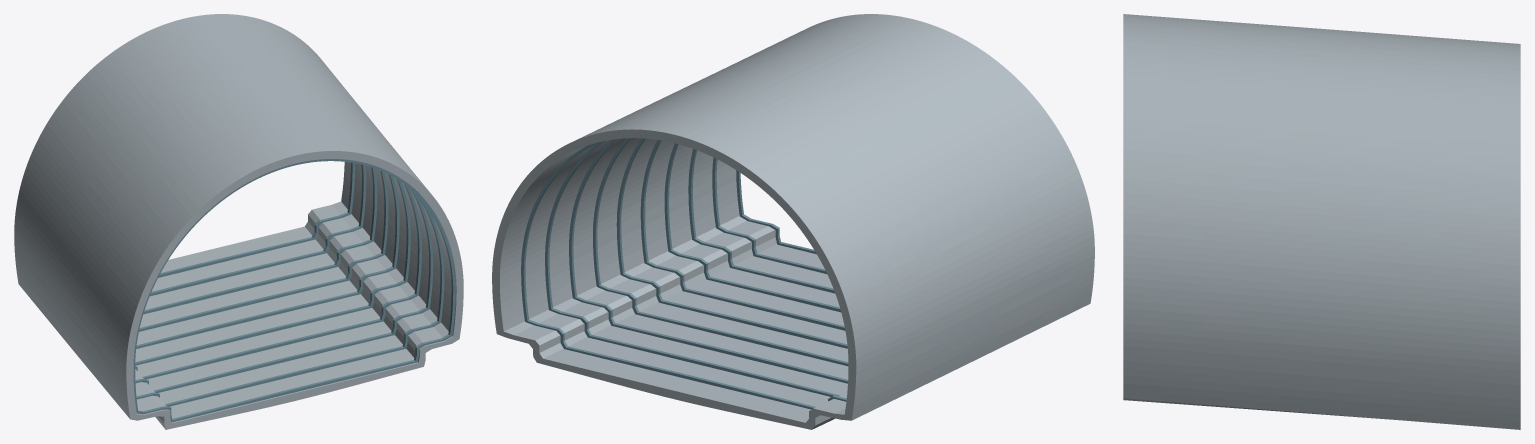
The model's file is 测试工段支护.glb.
3 renders of one model, left to right at view 1: azimuth 30°, elevation 25°; view 2: azimuth 150°, elevation 25°; view 3: azimuth 270°, elevation 25°, orthographic. The views are drawn at different scales.
Visible parts, largest first — view 1: Continuous support shell, Illustrative rib 01, Illustrative rib 02, Illustrative rib 03, Illustrative rib 04, Illustrative rib 05, Illustrative rib 06, Illustrative rib 07, Illustrative rib 08, Illustrative rib 09, Illustrative rib 10; view 2: Continuous support shell, Illustrative rib 10, Illustrative rib 09, Illustrative rib 08, Illustrative rib 07, Illustrative rib 06, Illustrative rib 05, Illustrative rib 04, Illustrative rib 03, Illustrative rib 02, Illustrative rib 01; view 3: Continuous support shell.
Part boxes in pixels (x1,y1,x2,y2): Continuous support shell: (14,14,463,429); Illustrative rib 01: (133,159,455,422); Illustrative rib 02: (136,191,444,406); Illustrative rib 03: (135,190,433,392); Illustrative rib 04: (135,184,421,379); Illustrative rib 05: (135,179,410,365); Illustrative rib 06: (136,175,399,348); Illustrative rib 07: (139,171,388,331); Illustrative rib 08: (143,167,377,314); Illustrative rib 09: (150,164,366,296); Illustrative rib 10: (158,162,354,277); Continuous support shell: (492,14,1094,429); Illustrative rib 10: (521,141,846,409); Illustrative rib 09: (545,141,839,396); Illustrative rib 08: (569,139,847,383); Illustrative rib 07: (593,138,848,366); Illustrative rib 06: (616,138,847,348); Illustrative rib 05: (640,140,845,330); Illustrative rib 04: (664,143,840,312); Illustrative rib 03: (688,149,835,293); Illustrative rib 02: (712,157,826,273); Illustrative rib 01: (736,170,816,254); Continuous support shell: (1123,14,1520,429).
Size of the model in its own units: 13.59 by 8.17 by 10.
